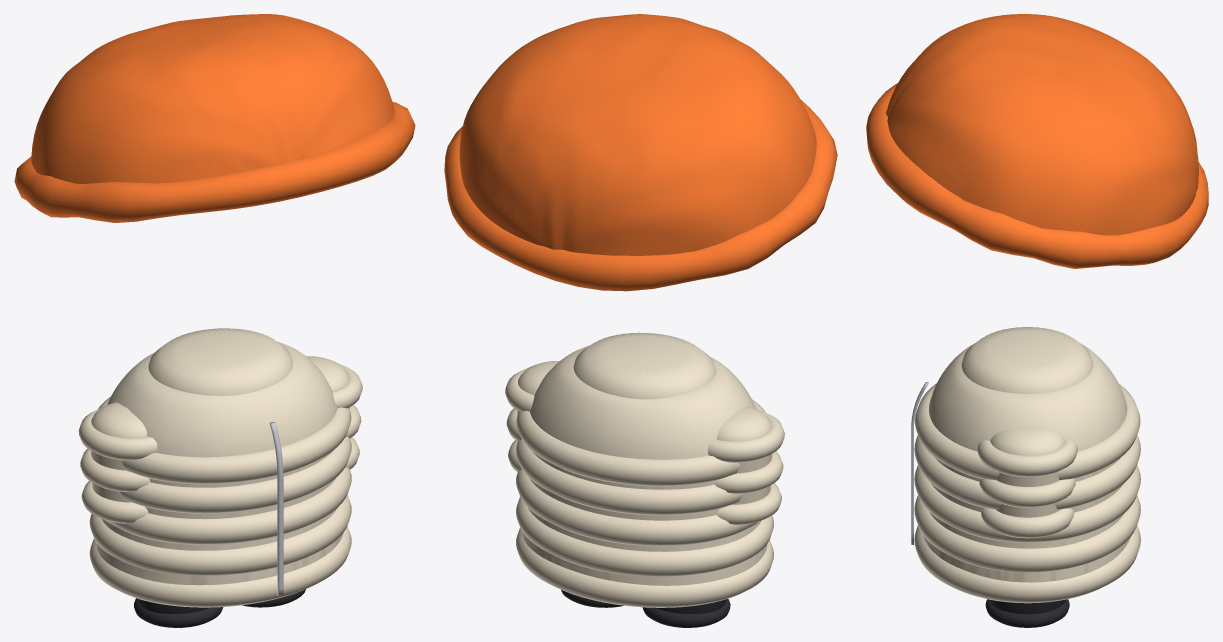
Rendered from thu.glb.
3 renders of one model, left to right at view 1: azimuth 30°, elevation 25°; view 2: azimuth 150°, elevation 25°; view 3: azimuth 270°, elevation 25°, orthographic. The views are drawn at different scales.
Parts seen in each view (by area): view 1: thu_Head_00_beanie, thu_Torso_00_puffer, thu_Head_01_beanie_cuff, thu_Torso_06_collar, thu_Torso_02_baffle1, thu_Torso_05_baffle4, thu_Torso_01_baffle0, thu_Torso_03_baffle2, thu_Torso_04_baffle3, thu_ArmL_00_sleeve, thu_ArmL_02_sleeve_puff0, thu_ArmL_03_sleeve_puff1 (+5 smaller); view 2: thu_Head_00_beanie, thu_Torso_00_puffer, thu_Head_01_beanie_cuff, thu_Torso_06_collar, thu_Torso_02_baffle1, thu_Torso_05_baffle4, thu_Torso_01_baffle0, thu_Torso_03_baffle2, thu_Torso_04_baffle3, thu_ArmL_00_sleeve, thu_ArmL_02_sleeve_puff0, thu_ArmL_03_sleeve_puff1 (+4 smaller); view 3: thu_Head_00_beanie, thu_Torso_00_puffer, thu_Head_01_beanie_cuff, thu_Torso_06_collar, thu_Torso_02_baffle1, thu_Torso_01_baffle0, thu_Torso_05_baffle4, thu_Torso_03_baffle2, thu_Torso_04_baffle3, thu_ArmR_00_sleeve.001, thu_ArmR_02_sleeve_puff0.001, thu_ArmR_03_sleeve_puff1.001 (+4 smaller).
Part boxes in pixels (x1=…): thu_Head_00_beanie: x1=31, y1=14, x2=394, y2=183; thu_Torso_00_puffer: x1=96, y1=341, x2=343, y2=585; thu_Head_01_beanie_cuff: x1=14, y1=101, x2=415, y2=222; thu_Torso_06_collar: x1=148, y1=328, x2=292, y2=395; thu_Torso_02_baffle1: x1=89, y1=495, x2=351, y2=575; thu_Torso_05_baffle4: x1=98, y1=396, x2=351, y2=484; thu_Torso_01_baffle0: x1=89, y1=526, x2=351, y2=607; thu_Torso_03_baffle2: x1=106, y1=467, x2=351, y2=544; thu_Torso_04_baffle3: x1=120, y1=437, x2=351, y2=513; thu_ArmL_00_sleeve: x1=91, y1=402, x2=147, y2=502; thu_ArmL_02_sleeve_puff0: x1=78, y1=408, x2=157, y2=460; thu_ArmL_03_sleeve_puff1: x1=80, y1=448, x2=150, y2=491; thu_Head_00_beanie: x1=459, y1=14, x2=816, y2=255; thu_Torso_00_puffer: x1=522, y1=345, x2=767, y2=585; thu_Head_01_beanie_cuff: x1=444, y1=99, x2=837, y2=291; thu_Torso_06_collar: x1=573, y1=332, x2=716, y2=399; thu_Torso_02_baffle1: x1=516, y1=496, x2=773, y2=576; thu_Torso_05_baffle4: x1=516, y1=399, x2=765, y2=486; thu_Torso_01_baffle0: x1=516, y1=527, x2=773, y2=607; thu_Torso_03_baffle2: x1=516, y1=470, x2=757, y2=546; thu_Torso_04_baffle3: x1=516, y1=440, x2=742, y2=515; thu_ArmL_00_sleeve: x1=717, y1=406, x2=771, y2=504; thu_ArmL_02_sleeve_puff0: x1=708, y1=410, x2=784, y2=462; thu_ArmL_03_sleeve_puff1: x1=714, y1=451, x2=783, y2=493; thu_Head_00_beanie: x1=886, y1=14, x2=1198, y2=235; thu_Torso_00_puffer: x1=923, y1=344, x2=1130, y2=582; thu_Head_01_beanie_cuff: x1=866, y1=83, x2=1208, y2=268; thu_Torso_06_collar: x1=961, y1=327, x2=1093, y2=393; thu_Torso_02_baffle1: x1=914, y1=495, x2=1140, y2=572; thu_Torso_01_baffle0: x1=914, y1=525, x2=1140, y2=603; thu_Torso_05_baffle4: x1=914, y1=383, x2=1140, y2=480; thu_Torso_03_baffle2: x1=914, y1=465, x2=1140, y2=542; thu_Torso_04_baffle3: x1=914, y1=435, x2=1140, y2=509; thu_ArmR_00_sleeve.001: x1=990, y1=427, x2=1065, y2=517; thu_ArmR_02_sleeve_puff0.001: x1=977, y1=440, x2=1077, y2=476; thu_ArmR_03_sleeve_puff1.001: x1=979, y1=478, x2=1075, y2=507.
Size of the model in its own units: 1.79 by 2.73 by 1.54.
